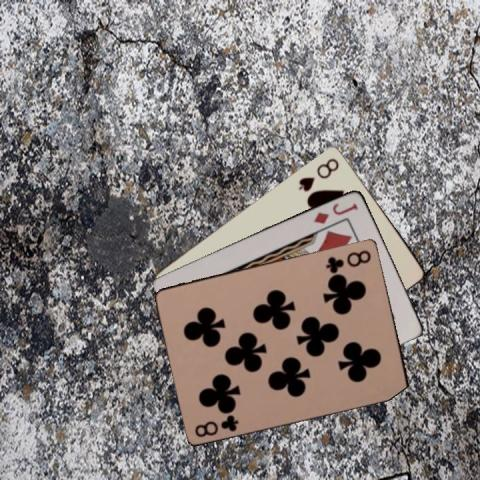8c: (192, 411, 240, 439), (322, 246, 373, 272)
8s: (295, 154, 341, 192)
Jd: (310, 199, 360, 226)
